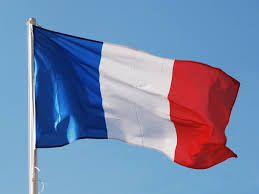French Flag: (33, 26, 239, 168)
